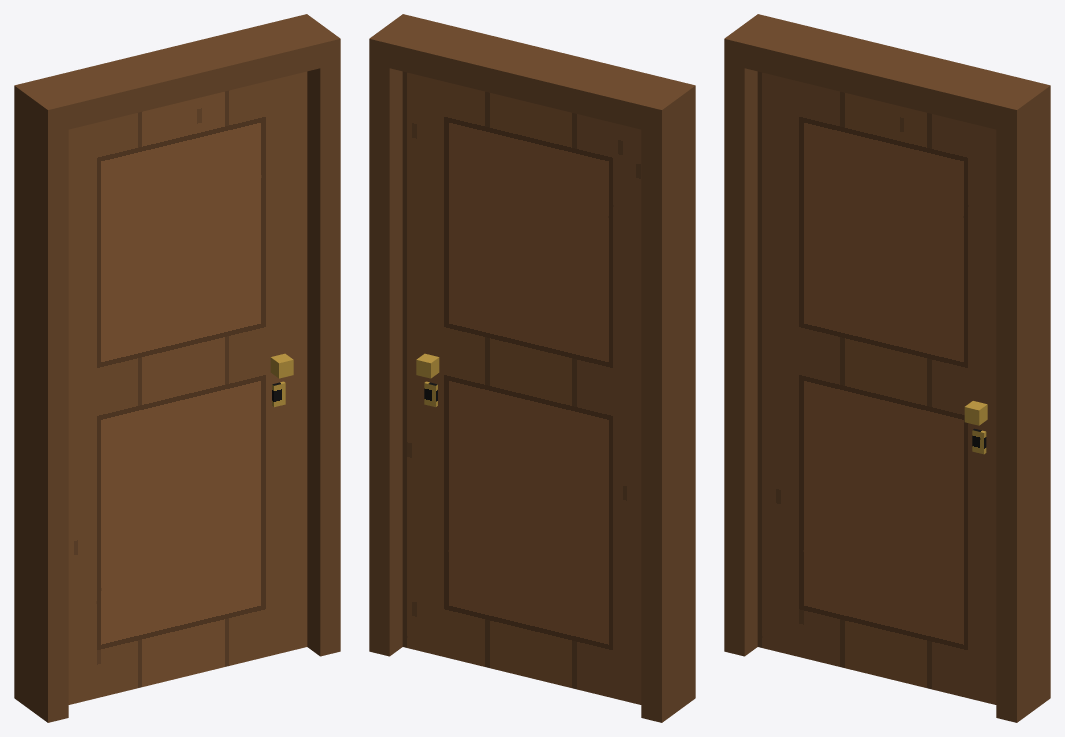
Rendered from t_door_locked_interior.glb.
3 renders of one model, left to right at view 1: azimuth 30°, elevation 25°; view 2: azimuth 150°, elevation 25°; view 3: azimuth 330°, elevation 25°, orthographic.
Visible parts, largest first — view 1: block_panel, block_jamb-1, block_jamb1, block_head; view 2: block_panel, block_jamb-1, block_jamb1, block_head; view 3: block_panel, block_jamb1, block_jamb-1, block_head.
Boxes of the visible parts, x1,y1,x2,y2 form: block_panel: (68,71,307,704); block_jamb-1: (14,80,68,722); block_jamb1: (287,14,340,656); block_head: (35,19,320,129); block_panel: (402,71,641,704); block_jamb-1: (641,80,695,722); block_jamb1: (369,14,422,656); block_head: (389,19,674,129); block_panel: (757,71,996,704); block_jamb1: (996,80,1050,722); block_jamb-1: (724,14,777,656); block_head: (744,19,1029,129).
Size of the model in its own units: 1 by 2 by 0.2.
2 materials, 2 textured.
